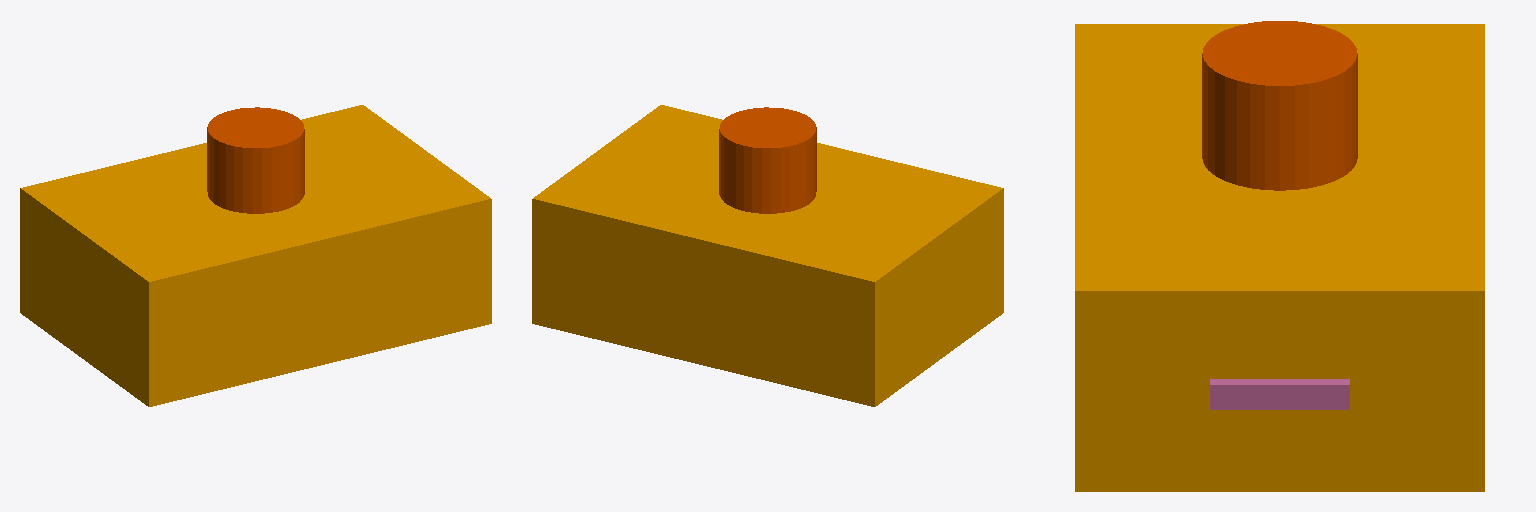
URDF robot description (rookie):
<?xml version="1.0" ?>
<!-- =================================================================================== -->
<!-- |    This document was autogenerated by xacro from rookie.urdf.xacro              | -->
<!-- |    EDITING THIS FILE BY HAND IS NOT RECOMMENDED                                 | -->
<!-- =================================================================================== -->
<robot name="rookie">
  <!-- approximate -->
  <!-- just a guess -->
  <!-- /Macros -->
  <link name="base_link">
    <visual>
      <geometry>
        <box size="0.226155 0.147 0.079"/>
      </geometry>
    </visual>
    <collision>
      <geometry>
        <box size="0.226155 0.147 0.079"/>
      </geometry>
    </collision>
    <inertial name="base_link_inertia">
      <mass value="2"/>
      <!-- 3D inertia tensor from: https://en.wikipedia.org/wiki/List_of_moments_of_inertia -->
      <inertia ixx="0.009564514004166665" ixy="0.0" ixz="0.0" iyy="0.004641666666666666" iyz="0.0" izz="0.0121258473375"/>
    </inertial>
  </link>
  <link name="front_left_wheel">
    <visual>
      <origin rpy="0.0 0.0 0.0" xyz="0.0 0.0 0.0"/>
      <geometry>
        <mesh filename="[local-path]/workspace/install/rookie_description/share/rookie_description/meshes//Banebots_T81_Wheel.dae"/>
      </geometry>
    </visual>
    <collision>
      <origin rpy="1.570796327 0 0" xyz="0 -0.01016 0"/>
      <geometry>
        <cylinder length="0.02032" radius="0.0492125"/>
      </geometry>
    </collision>
    <inertial name="front_left_wheel_inertia">
      <mass value="0.0992233"/>
      <!-- 3D inertia tensor from: https://en.wikipedia.org/wiki/List_of_moments_of_inertia -->
      <inertia ixx="6.349061549415349e-05" ixy="0" ixz="0" iyy="6.349061549415349e-05" iyz="0" izz="0.0001201529745373203"/>
    </inertial>
  </link>
  <joint name="front_left_wheel_joint" type="continuous">
    <parent link="base_link"/>
    <child link="front_left_wheel"/>
    <origin rpy="0.0 0.0 0" xyz="0.0645                  0.0973                  -0.010287499999999998"/>
  </joint>
  <link name="front_right_wheel">
    <visual>
      <origin rpy="0.0 0.0 0.0" xyz="0.0 0.0 0.0"/>
      <geometry>
        <mesh filename="[local-path]/workspace/install/rookie_description/share/rookie_description/meshes//Banebots_T81_Wheel.dae"/>
      </geometry>
    </visual>
    <collision>
      <origin rpy="1.570796327 0 0" xyz="0 -0.01016 0"/>
      <geometry>
        <cylinder length="0.02032" radius="0.0492125"/>
      </geometry>
    </collision>
    <inertial name="front_right_wheel_inertia">
      <mass value="0.0992233"/>
      <!-- 3D inertia tensor from: https://en.wikipedia.org/wiki/List_of_moments_of_inertia -->
      <inertia ixx="6.349061549415349e-05" ixy="0" ixz="0" iyy="6.349061549415349e-05" iyz="0" izz="0.0001201529745373203"/>
    </inertial>
  </link>
  <joint name="front_right_wheel_joint" type="continuous">
    <parent link="base_link"/>
    <child link="front_right_wheel"/>
    <origin rpy="0.0 0.0 3.14159" xyz="0.0645                  -0.0973                  -0.010287499999999998"/>
  </joint>
  <link name="rear_left_wheel">
    <visual>
      <origin rpy="0.0 0.0 0.0" xyz="0.0 0.0 0.0"/>
      <geometry>
        <mesh filename="[local-path]/workspace/install/rookie_description/share/rookie_description/meshes//Banebots_T81_Wheel.dae"/>
      </geometry>
    </visual>
    <collision>
      <origin rpy="1.570796327 0 0" xyz="0 -0.01016 0"/>
      <geometry>
        <cylinder length="0.02032" radius="0.0492125"/>
      </geometry>
    </collision>
    <inertial name="rear_left_wheel_inertia">
      <mass value="0.0992233"/>
      <!-- 3D inertia tensor from: https://en.wikipedia.org/wiki/List_of_moments_of_inertia -->
      <inertia ixx="6.349061549415349e-05" ixy="0" ixz="0" iyy="6.349061549415349e-05" iyz="0" izz="0.0001201529745373203"/>
    </inertial>
  </link>
  <joint name="rear_left_wheel_joint" type="continuous">
    <parent link="base_link"/>
    <child link="rear_left_wheel"/>
    <origin rpy="0.0 0.0 0" xyz="-0.0645                  0.0973                  -0.010287499999999998"/>
  </joint>
  <link name="rear_right_wheel">
    <visual>
      <origin rpy="0.0 0.0 0.0" xyz="0.0 0.0 0.0"/>
      <geometry>
        <mesh filename="[local-path]/workspace/install/rookie_description/share/rookie_description/meshes//Banebots_T81_Wheel.dae"/>
      </geometry>
    </visual>
    <collision>
      <origin rpy="1.570796327 0 0" xyz="0 -0.01016 0"/>
      <geometry>
        <cylinder length="0.02032" radius="0.0492125"/>
      </geometry>
    </collision>
    <inertial name="rear_right_wheel_inertia">
      <mass value="0.0992233"/>
      <!-- 3D inertia tensor from: https://en.wikipedia.org/wiki/List_of_moments_of_inertia -->
      <inertia ixx="6.349061549415349e-05" ixy="0" ixz="0" iyy="6.349061549415349e-05" iyz="0" izz="0.0001201529745373203"/>
    </inertial>
  </link>
  <joint name="rear_right_wheel_joint" type="continuous">
    <parent link="base_link"/>
    <child link="rear_right_wheel"/>
    <origin rpy="0.0 0.0 3.14159" xyz="-0.0645                  -0.0973                  -0.010287499999999998"/>
  </joint>
  <link name="lidar_slamtec_c1">
    <visual>
      <origin rpy="0.0 0.0 0.0" xyz="0.0 0.0 0.0"/>
      <geometry>
        <cylinder length="0.0413" radius="0.0278"/>
      </geometry>
    </visual>
    <collision>
      <geometry>
        <cylinder length="0.0413" radius="0.0278"/>
      </geometry>
    </collision>
  </link>
  <joint name="lidar_joint" type="fixed">
    <parent link="base_link"/>
    <child link="lidar_slamtec_c1"/>
    <origin rpy="0.0 0.0 0" xyz="0 0 0.06015"/>
  </joint>
  <link name="camera">
    <static>true</static>
    <visual name="visual">
      <geometry>
        <box size="0.01 0.05 0.01"/>
      </geometry>
    </visual>
  </link>
  <joint name="camera_joint" type="fixed">
    <parent link="base_link"/>
    <child link="camera"/>
    <origin rpy="0.0 0.0 0" xyz="0.1130775 0 0"/>
  </joint>
  <!-- The plugins we need to be loaded -->
  <gazebo>
    <!-- plugin type "imu" -->
    <plugin filename="gz-sim-imu-system" name="gz::sim::systems::Imu"/>
    <!-- LiDAR ('gpu_lidar') plugin, Camera ('camera') -->
    <plugin filename="gz-sim-sensors-system" name="gz::sim::systems::Sensors"/>
  </gazebo>
  <!-- "Global" sensors, not explicitly attached to any link -->
  <gazebo>
    <!-- Differential drive (skid steer) plugin -->
    <plugin filename="gz-sim-diff-drive-system" name="gz::sim::systems::DiffDrive">
      <update_rate>30</update_rate>
      <left_joint>front_left_wheel_joint</left_joint>
      <left_joint>rear_left_wheel_joint</left_joint>
      <right_joint>front_right_wheel_joint</right_joint>
      <right_joint>rear_right_wheel_joint</right_joint>
      <wheel_separation>0.204</wheel_separation>
      <wheel_radius>0.0492125</wheel_radius>
      <odom_publish_frequency>50</odom_publish_frequency>
      <frame_id>odom</frame_id>
      <topic>cmd_vel</topic>
    </plugin>
  </gazebo>
  <!-- Sensors attached to the base_link -->
  <gazebo reference="base_link">
    <!-- IMU plugin -->
    <sensor name="imu_sensor" type="imu">
      <always_on>1</always_on>
      <update_rate>20</update_rate>
      <visualize>false</visualize>
      <topic>imu</topic>
    </sensor>
  </gazebo>
  <!-- Sensors attached to the lidar_slamtec_c1 link -->
  <gazebo reference="lidar_slamtec_c1">
    <sensor name="lidar_slamtec_c1_sensor" type="gpu_lidar">
      <pose relative_to="lidar_joint">0 0 0 0 0 0</pose>
      <always_on>1</always_on>
      <visualize>true</visualize>
      <topic>lidar</topic>
      <update_rate>10</update_rate>
      <ray>
        <scan>
          <horizontal>
            <samples>640</samples>
            <resolution>1</resolution>
            <min_angle>-1.396263</min_angle>
            <max_angle>1.396263</max_angle>
          </horizontal>
          <vertical>
            <samples>1</samples>
            <resolution>0.01</resolution>
            <min_angle>0</min_angle>
            <max_angle>0</max_angle>
          </vertical>
        </scan>
        <range>
          <min>0.08</min>
          <max>10.0</max>
          <resolution>0.01</resolution>
        </range>
      </ray>
    </sensor>
  </gazebo>
  <gazebo reference="camera">
    <sensor name="camera_sensor" type="camera">
      <camera>
        <horizontal_fov>1.047</horizontal_fov>
        <image>
          <width>320</width>
          <height>240</height>
        </image>
        <clip>
          <near>0.1</near>
          <far>100</far>
        </clip>
      </camera>
      <always_on>1</always_on>
      <update_rate>30</update_rate>
      <visualize>true</visualize>
      <topic>camera</topic>
    </sensor>
  </gazebo>
</robot>

--- Facts derived from the render (not from the file) ---
Views: 3 orthographic renders of the robot side by side, from view 1: azimuth 30°, elevation 25°; view 2: azimuth 150°, elevation 25°; view 3: azimuth 270°, elevation 25°.
Model rookie with 7 links and 6 joints (4 continuous, 2 fixed), rooted at base_link, posed every joint at zero.
Visible links, largest first — view 1: base_link, lidar_slamtec_c1; view 2: base_link, lidar_slamtec_c1; view 3: base_link, lidar_slamtec_c1, camera.
Boxes of the visible links, box(x1,y1,x2,y2) form: base_link: box(20, 105, 491, 406); lidar_slamtec_c1: box(207, 107, 304, 213); base_link: box(532, 105, 1003, 406); lidar_slamtec_c1: box(719, 107, 816, 213); base_link: box(1075, 24, 1484, 491); lidar_slamtec_c1: box(1202, 21, 1357, 190); camera: box(1210, 379, 1349, 409).
Bounding box of the posed robot: 0.2312 × 0.147 × 0.1203 m (x, y, z).
Geometry: only primitive shapes (box / cylinder / sphere) drawn; not drawn: 4 mesh visuals (reference in a form the renderer does not follow).